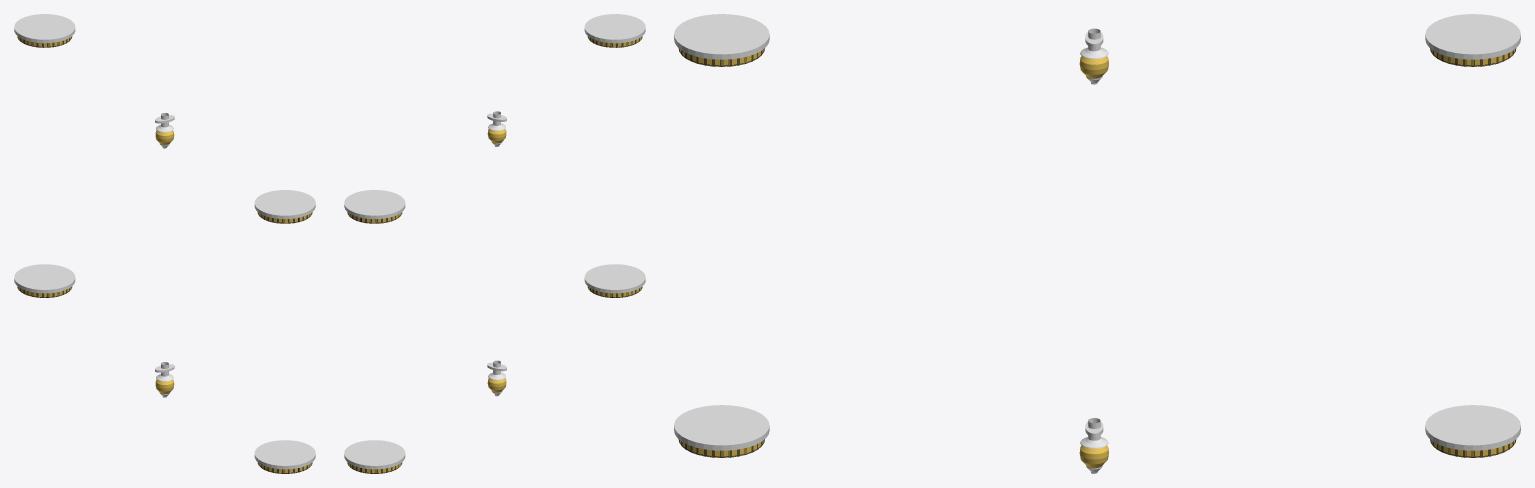
File: DollhouseLighting.fbx
3 views of the same model, side by side, from view 1: azimuth 30°, elevation 25°; view 2: azimuth 150°, elevation 25°; view 3: azimuth 270°, elevation 25° (orthographic). The views are drawn at different scales.
Parts seen in each view (by area): view 1: dollhouseceilinglamp.002, dollhouseceilinglamp, dollhouseceilinglamp.003, dollhouseceilinglamp.001, Cylinder, Cylinder.001; view 2: dollhouseceilinglamp.003, dollhouseceilinglamp.001, dollhouseceilinglamp.002, dollhouseceilinglamp, Cylinder, Cylinder.001; view 3: dollhouseceilinglamp, dollhouseceilinglamp.001, dollhouseceilinglamp.002, dollhouseceilinglamp.003, Cylinder, Cylinder.001.
Part boxes in pixels (<box>): dollhouseceilinglamp.002: <box>14,264,75,297</box>; dollhouseceilinglamp: <box>254,190,315,223</box>; dollhouseceilinglamp.003: <box>254,440,315,473</box>; dollhouseceilinglamp.001: <box>14,14,75,47</box>; Cylinder: <box>155,113,174,148</box>; Cylinder.001: <box>155,362,174,397</box>; dollhouseceilinglamp.003: <box>584,264,645,297</box>; dollhouseceilinglamp.001: <box>344,190,405,223</box>; dollhouseceilinglamp.002: <box>344,440,405,473</box>; dollhouseceilinglamp: <box>584,14,645,47</box>; Cylinder: <box>487,111,506,146</box>; Cylinder.001: <box>487,360,506,396</box>; dollhouseceilinglamp: <box>674,14,769,66</box>; dollhouseceilinglamp.001: <box>1425,14,1520,66</box>; dollhouseceilinglamp.002: <box>1425,405,1520,457</box>; dollhouseceilinglamp.003: <box>674,405,769,457</box>; Cylinder: <box>1079,28,1108,84</box>; Cylinder.001: <box>1079,418,1108,473</box>.
Size of the model in its own units: 26.48 by 135 by 235.
